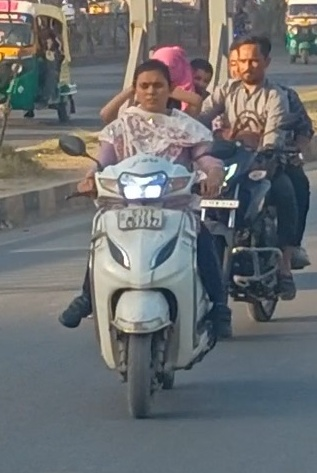BikeWithRider: (51, 53, 246, 423), (185, 30, 317, 331)
NoHelmet: (124, 56, 178, 114), (222, 32, 277, 86)
